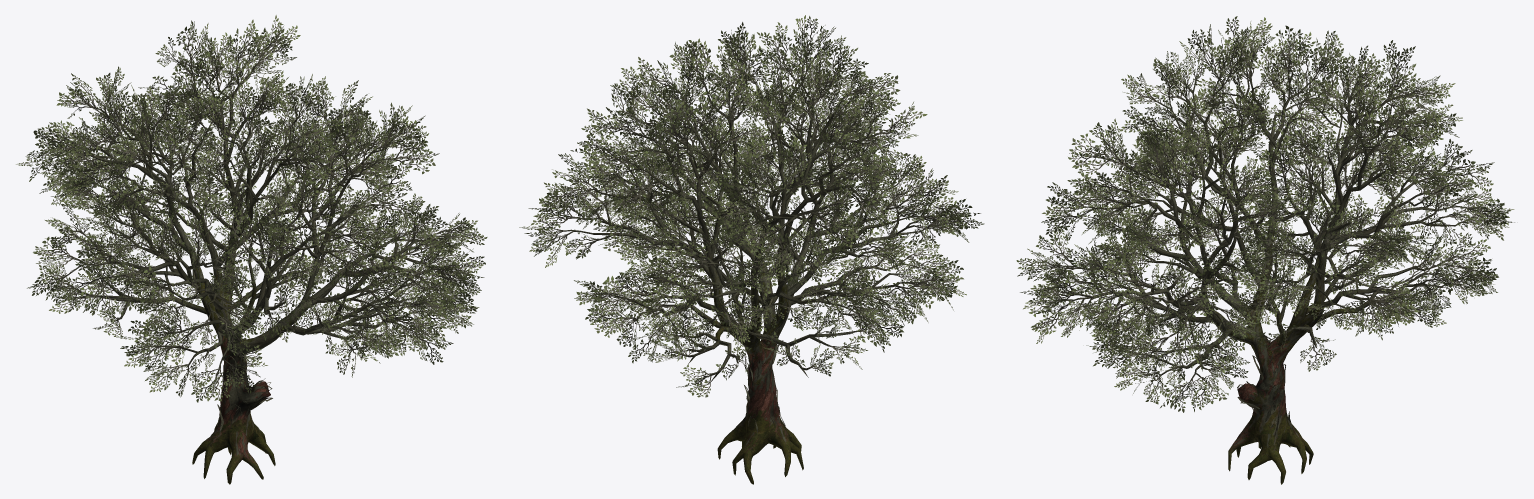
Rendered from ancient-tree-left.glb.
3 renders of one model, left to right at view 1: azimuth 30°, elevation 25°; view 2: azimuth 150°, elevation 25°; view 3: azimuth 270°, elevation 25°, orthographic. The views are drawn at different scales.
Parts seen in each view (by area): view 1: TreeGen_ClusterB_0, TreeGen_BarkB_0; view 2: TreeGen_ClusterB_0, TreeGen_BarkB_0; view 3: TreeGen_ClusterB_0, TreeGen_BarkB_0.
Part boxes in pixels (<box>): TreeGen_ClusterB_0: <box>16,15,487,402</box>; TreeGen_BarkB_0: <box>48,45,459,484</box>; TreeGen_ClusterB_0: <box>519,15,984,397</box>; TreeGen_BarkB_0: <box>547,40,951,484</box>; TreeGen_ClusterB_0: <box>1016,16,1514,412</box>; TreeGen_BarkB_0: <box>1045,46,1485,484</box>.
Size of the model in its own units: 21.13 by 22.48 by 24.06.
2 materials, 2 textured.
